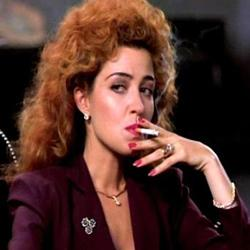smoking: (124, 123, 161, 140)
